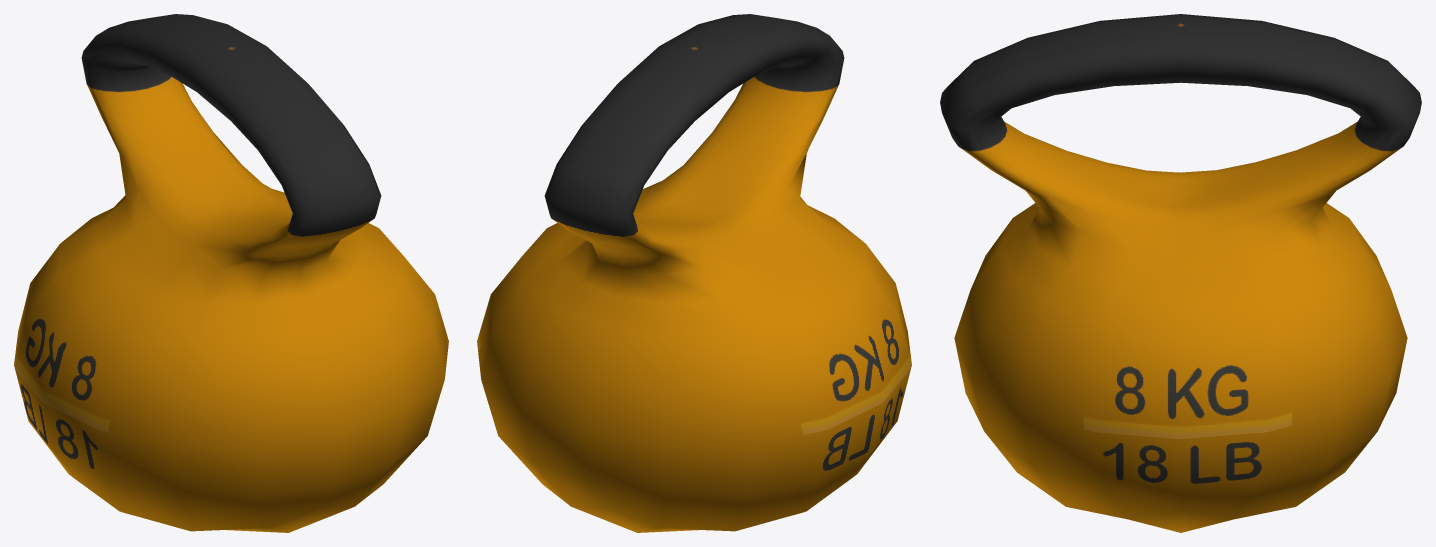
File: rusa2.obj
3 renders of one model, left to right at view 1: azimuth 30°, elevation 25°; view 2: azimuth 150°, elevation 25°; view 3: azimuth 270°, elevation 25°, orthographic. The views are drawn at different scales.
Visible parts, largest first — view 1: rusa2; view 2: rusa2; view 3: rusa2.
Part boxes in pixels (x1,y1,x2,y2): rusa2: [14, 14, 448, 532]; rusa2: [477, 14, 911, 532]; rusa2: [940, 14, 1421, 532].
Size of the model in its own units: 1.93 by 2.17 by 2.05.
Materials: 1 (1 with a texture image).
